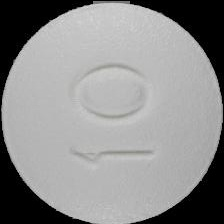55154-4619: (0, 0, 224, 224)
